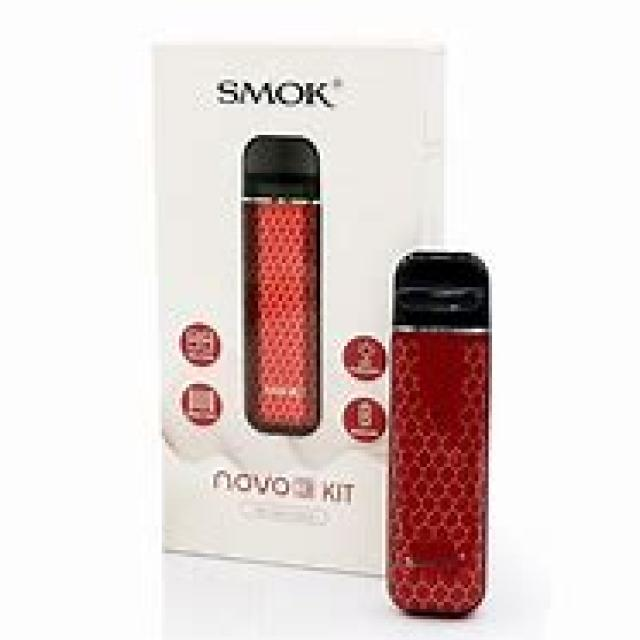Vapes: (382, 245, 492, 616)
